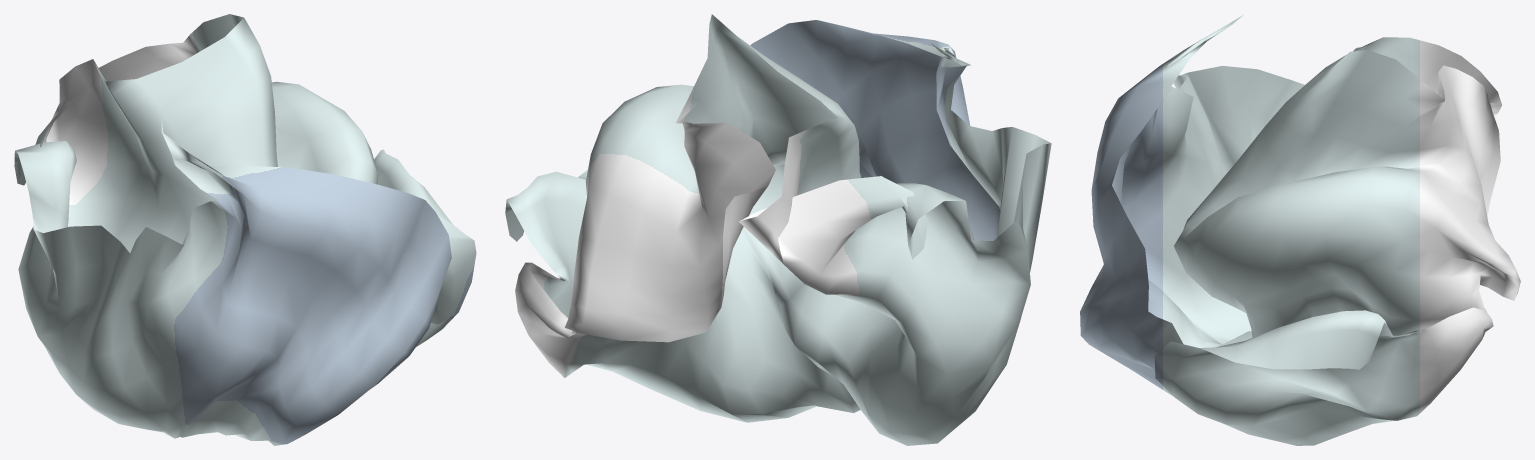
File: papel.001.fbx
3 views of the same model, side by side, from view 1: azimuth 30°, elevation 25°; view 2: azimuth 150°, elevation 25°; view 3: azimuth 270°, elevation 25° (orthographic). The views are drawn at different scales.
Parts seen in each view (by area): view 1: papel.001; view 2: papel.001; view 3: papel.001.
Boxes of the visible parts, bbox=[...] form: papel.001: bbox=[14, 14, 476, 445]; papel.001: bbox=[505, 14, 1051, 445]; papel.001: bbox=[1080, 15, 1520, 445].
Size of the model in its own units: 176 by 156 by 161.
